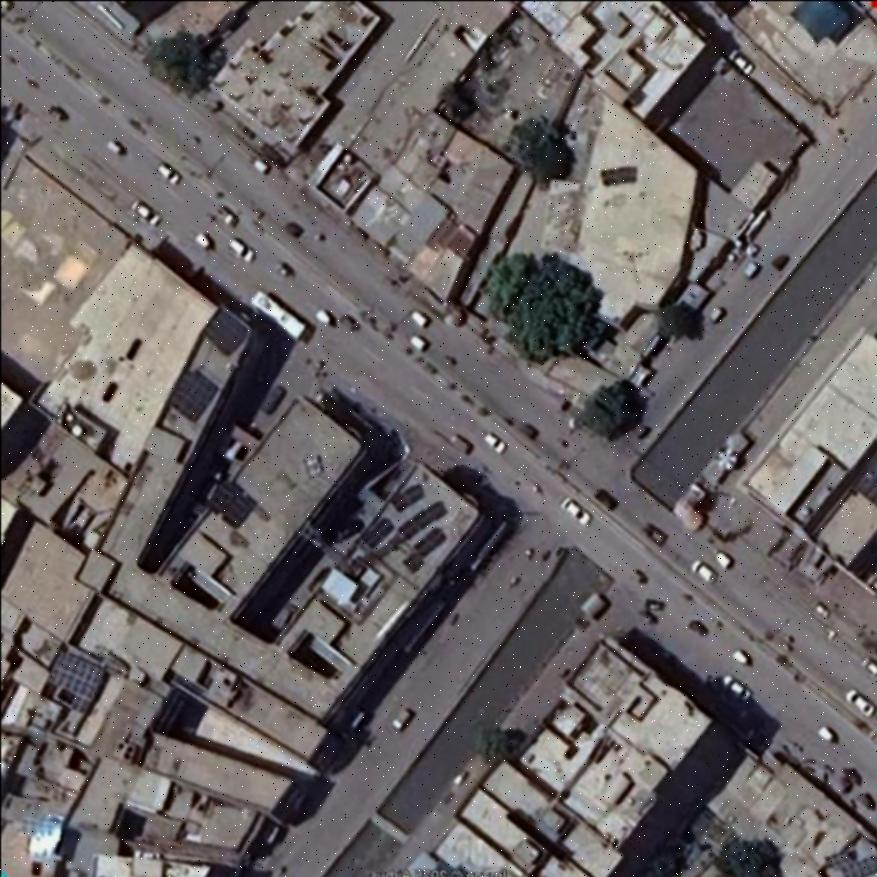Solarpanel: (43, 653, 99, 711), (169, 367, 215, 421), (205, 307, 247, 353), (397, 501, 447, 537), (362, 517, 391, 547), (394, 481, 423, 510), (837, 856, 877, 876), (414, 528, 443, 555)
